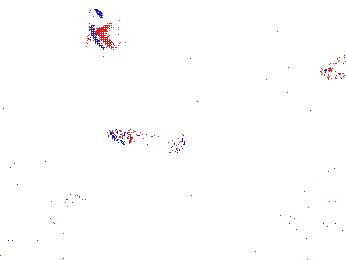X-ray fish: (109, 187, 157, 233)
glassfish: (102, 123, 187, 156)
red belly glassfish: (240, 12, 294, 35), (319, 62, 346, 79)
redtail glassfish: (265, 71, 345, 92), (80, 8, 112, 52)
